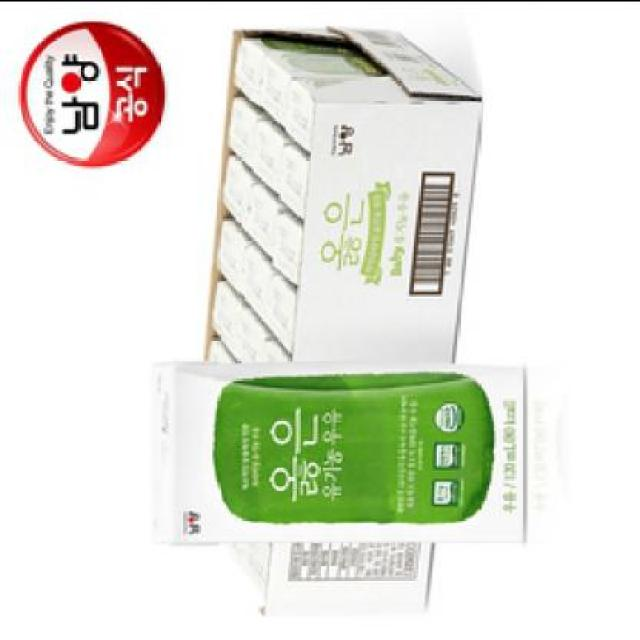tetra: (125, 341, 543, 579)
